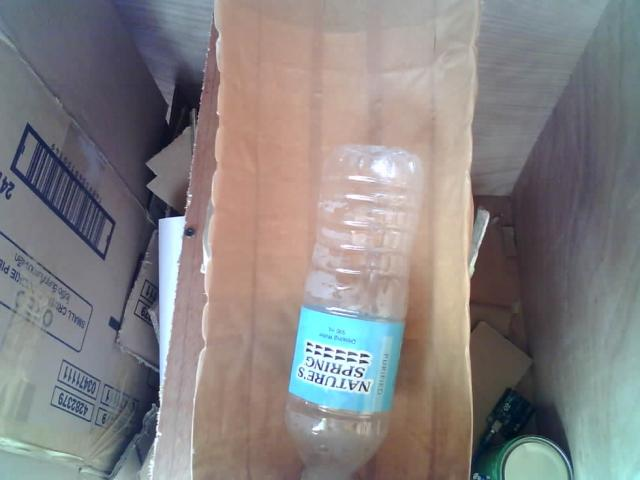small_bottle: (270, 134, 431, 480)
